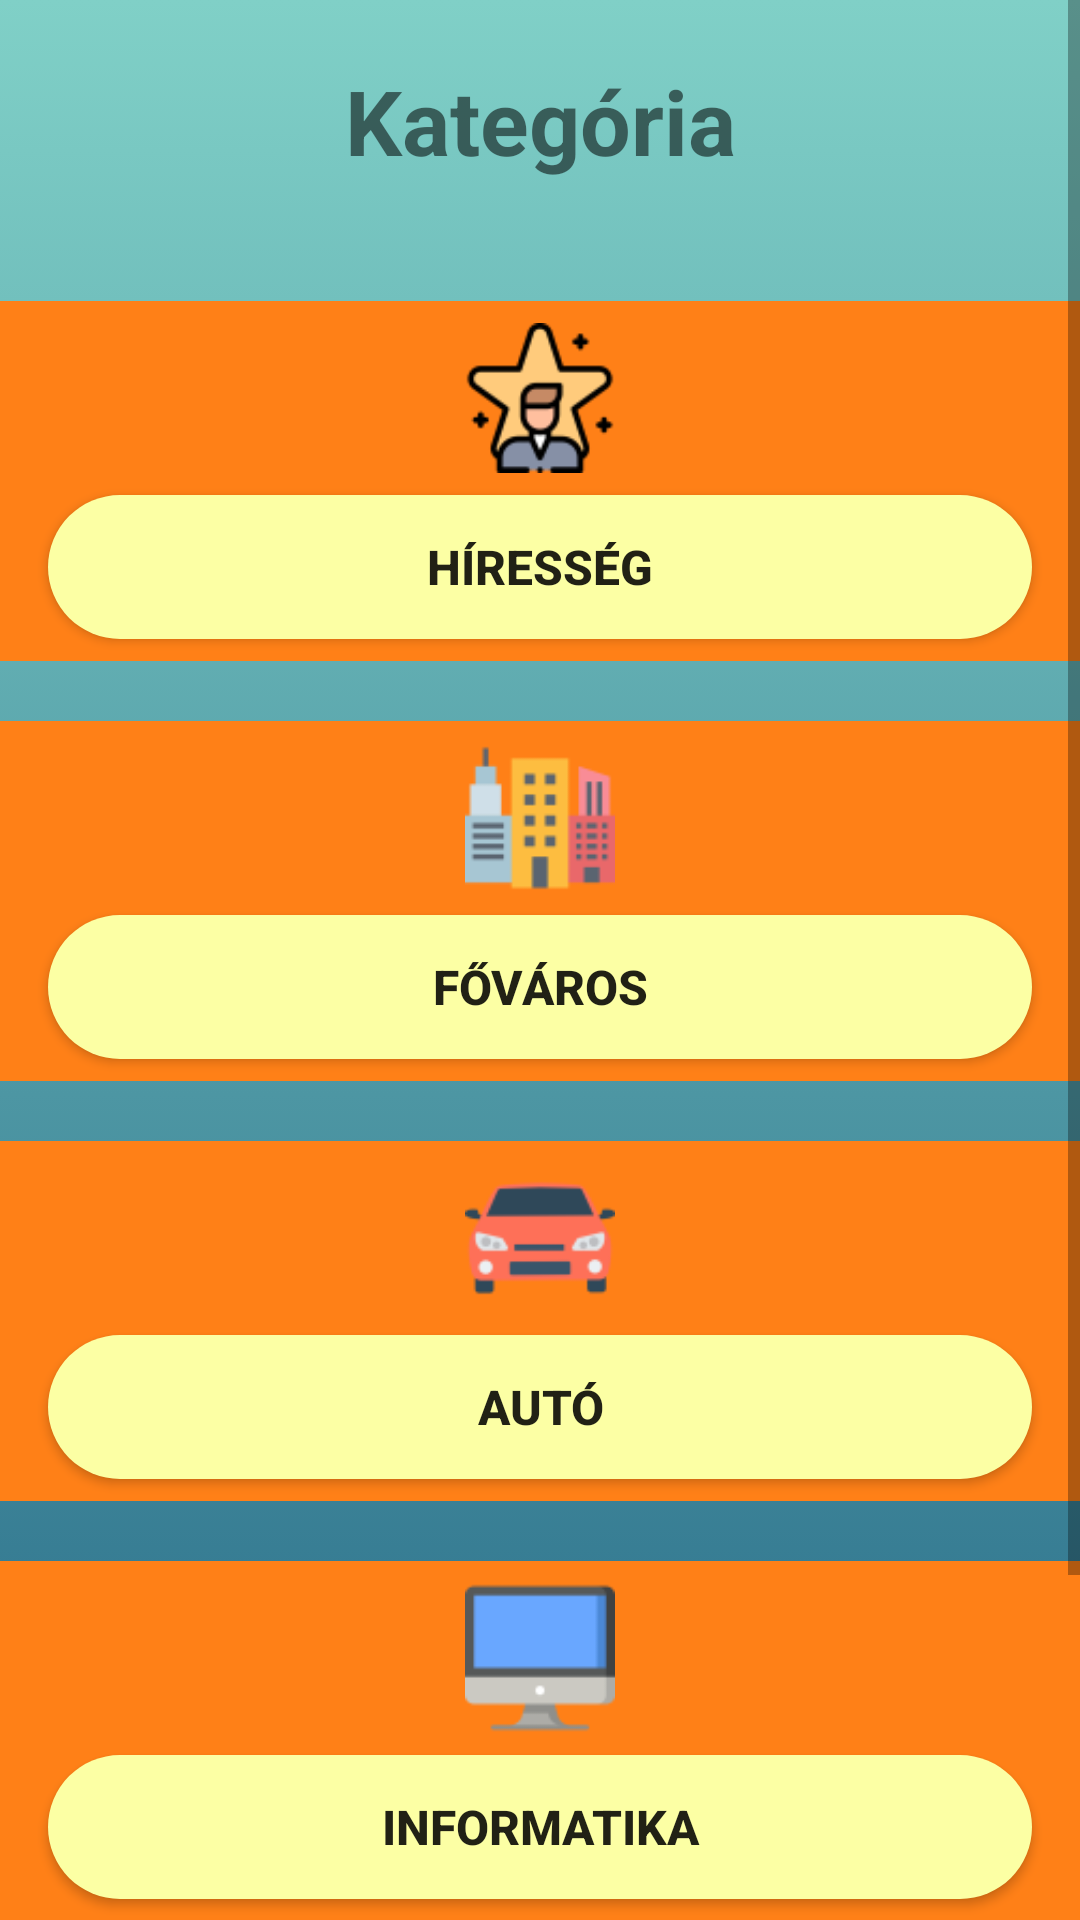

Icons on this 1080 × 1920 Android screen, each with the point to tap as (x=x, y=y):
car: (x=540, y=1238)
computer: (x=540, y=1658)
famous: (x=540, y=398)
